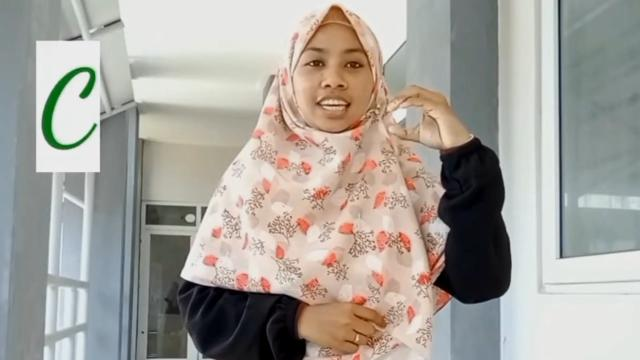C: (387, 82, 469, 148)
